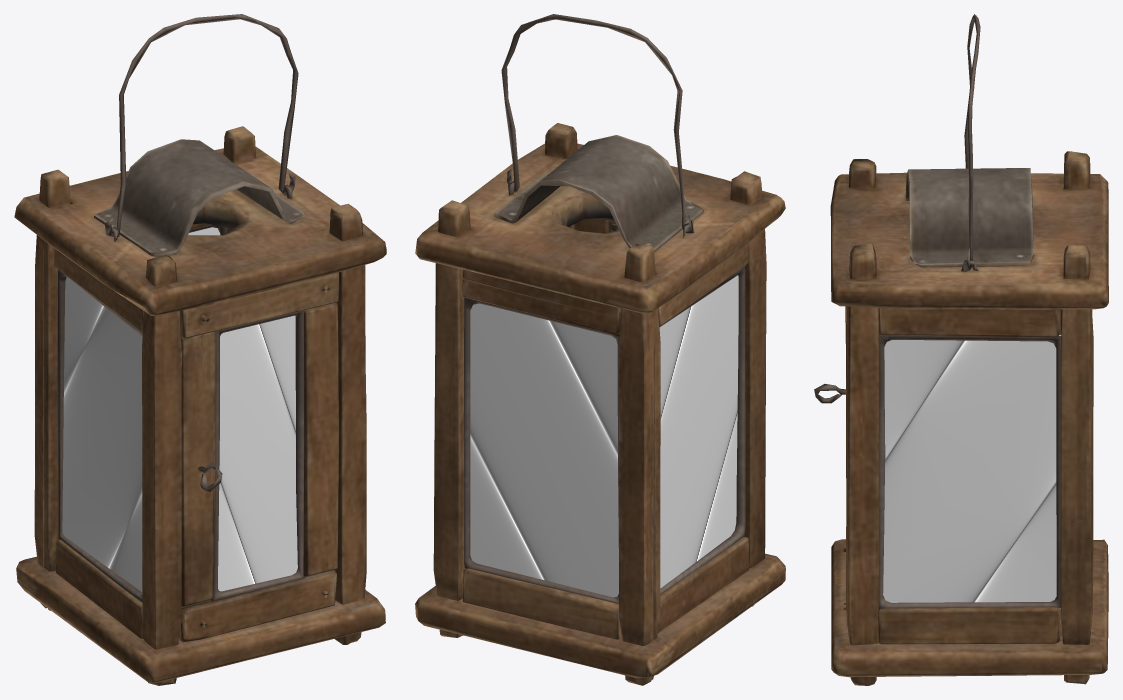
File: wooden_lantern_01.glb
The picture shows the model from 3 angles, left to right: view 1: azimuth 30°, elevation 25°; view 2: azimuth 150°, elevation 25°; view 3: azimuth 270°, elevation 25°; orthographic projection.
Parts seen in each view (by area): view 1: wooden_lantern_01, wooden_lantern_01_glass; view 2: wooden_lantern_01, wooden_lantern_01_glass; view 3: wooden_lantern_01, wooden_lantern_01_glass.
Part boxes in pixels (x1,y1,x2,y2): wooden_lantern_01: [14, 14, 386, 685]; wooden_lantern_01_glass: [62, 227, 297, 592]; wooden_lantern_01: [415, 14, 785, 685]; wooden_lantern_01_glass: [470, 230, 738, 597]; wooden_lantern_01: [814, 14, 1108, 685]; wooden_lantern_01_glass: [883, 335, 1061, 609].
Size of the model in its own units: 0.2209 by 0.5291 by 0.2332.
2 materials, 1 textured.
